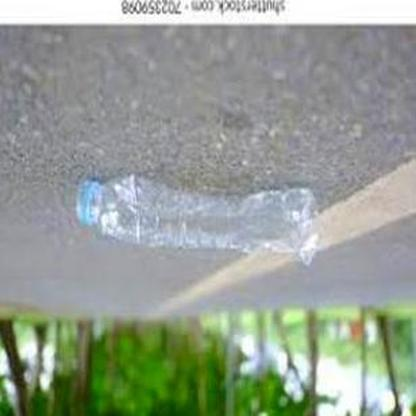plastic bottle: (75, 174, 319, 255)
